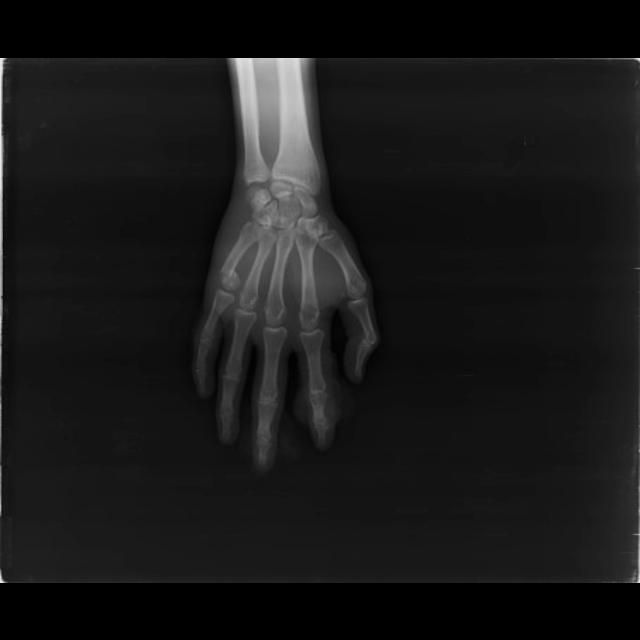fractured: (215, 262, 243, 286)
